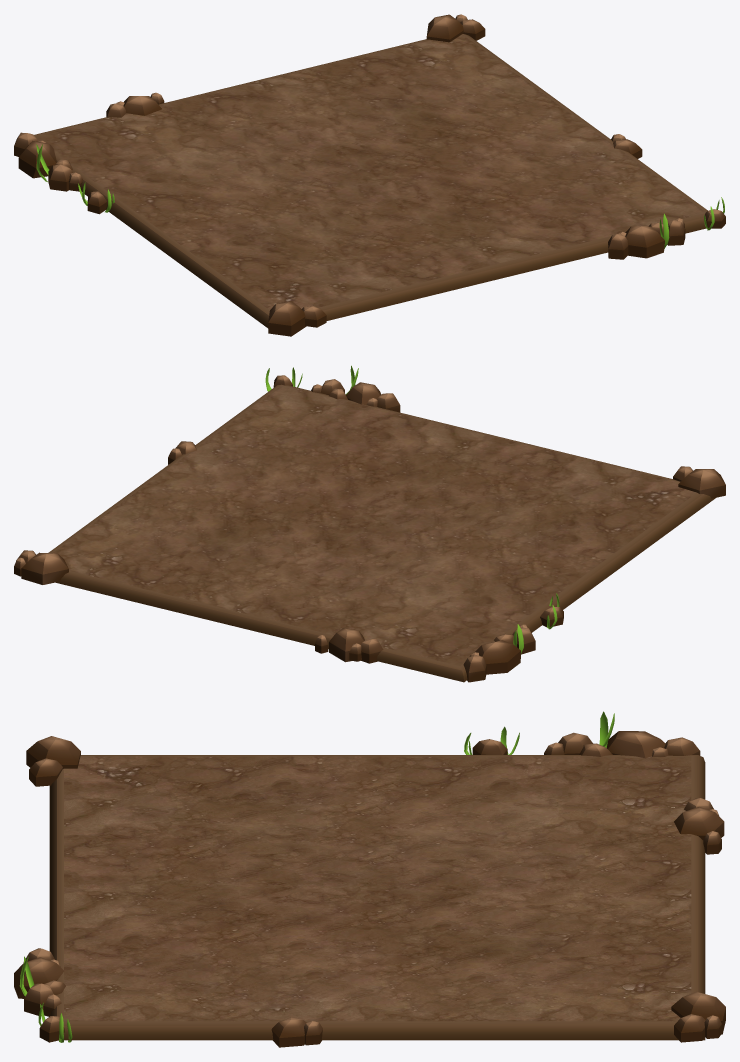
Rendered from SM_dat_trong_trot_1.fbx.
3 renders of one model, top to bottom at view 1: azimuth 30°, elevation 25°; view 2: azimuth 150°, elevation 25°; view 3: azimuth 270°, elevation 25°, orthographic. The views are drawn at different scales.
Visible parts, largest first — view 1: pCube2; view 2: pCube2; view 3: pCube2.
Boxes of the visible parts, box(x1,y1,x2,y2) form: pCube2: box(14, 14, 725, 336); pCube2: box(14, 365, 725, 682); pCube2: box(14, 711, 725, 1047).
Size of the model in its own units: 883 by 65.74 by 893.
Materials: 1 (1 with a texture image).
